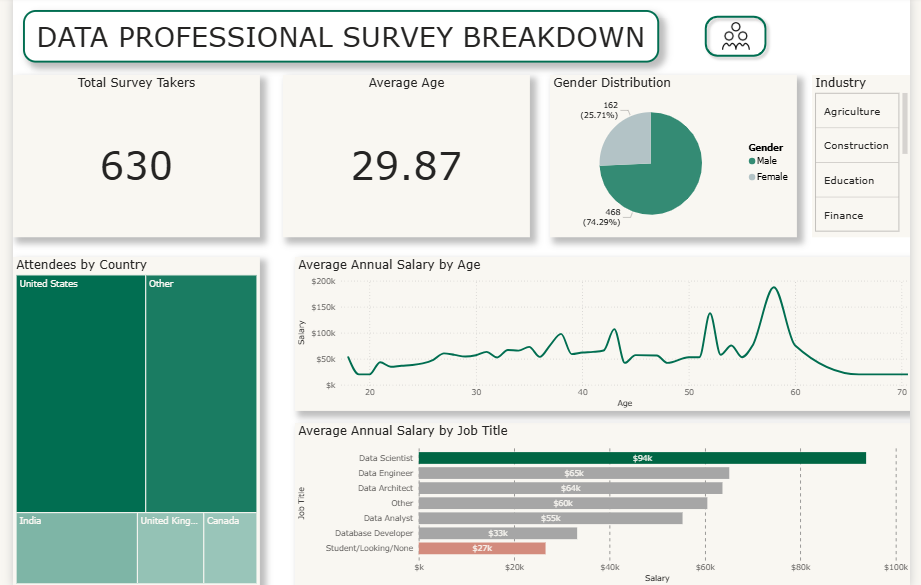

Layout of this report page (visuals, bound fields, positions):
{"tool":"powerbi","page":{"name":"Page 1","canvas":[1400,920],"ordinal":0},"visuals":[{"type":"textbox","box":[15.3,20.4,991.6,81.8],"z":0},{"type":"card","title":"Total Survey Takers","fields":{"Values":["Count(Data Professional Survey.Unique ID)"]},"box":[0,121.9,385,252.8],"z":1000},{"type":"clusteredBarChart","title":"Average Annual Salary by Job Title","fields":{"Category":["Data Professional Survey.Q1 - Which Title Best Fits your Current Role?.1"],"Y":["Avg(Data Professional Survey.Average Salary)"]},"box":[439.2,665,960.8,254.5],"z":2000},{"type":"treemap","title":"Attendees by Country","fields":{"Group":["Data Professional Survey.Q11 - Which Country do you live in?.1"],"Values":["CountNonNull(Data Professional Survey.Q11 - Which Country do you live in?.1)"]},"box":[0,405.1,385.4,514.5],"z":3000},{"type":"lineChart","title":"Average Annual Salary by Age","fields":{"Category":["Data Professional Survey.Q10 - Current Age"],"Y":["Avg(Data Professional Survey.Average Salary)"]},"box":[439.2,405.1,960.8,240.2],"z":4000},{"type":"advancedSlicerVisual","title":"Industry","fields":{"Values":["Data Professional Survey.Q4 - What Industry do you work in?.1"]},"box":[1245.8,121.9,154.2,252.8],"z":5000},{"type":"card","title":"Average Age","fields":{"Values":["Avg(Data Professional Survey.Q10 - Current Age)"]},"box":[421.3,121.9,385,252.8],"z":6000},{"type":"pieChart","title":"Gender Distribution","fields":{"Category":["Data Professional Survey.Q9 - Male/Female?"],"Y":["CountNonNull(Data Professional Survey.Q9 - Male/Female?)"]},"box":[837.1,121.9,385.4,252.8],"z":7000},{"type":"actionButton","box":[1069.9,20.4,114.1,81.8],"z":8000},{"type":"image","box":[1097.2,34.1,59.6,52.8],"z":10000}]}

Visuals, with their boxes on the page's 1400x920 design canvas (x1, y1, x2, y2). These are canvas units, not pixel positions in the 921x585 screenshot, which may show the page scaled, cropped or inside an application window:
textbox: box(15, 20, 1007, 102)
"Total Survey Takers" card: box(0, 122, 385, 375)
"Average Annual Salary by Job Title" clusteredBarChart: box(439, 665, 1400, 920)
"Attendees by Country" treemap: box(0, 405, 385, 920)
"Average Annual Salary by Age" lineChart: box(439, 405, 1400, 645)
"Industry" advancedSlicerVisual: box(1246, 122, 1400, 375)
"Average Age" card: box(421, 122, 806, 375)
"Gender Distribution" pieChart: box(837, 122, 1222, 375)
actionButton: box(1070, 20, 1184, 102)
image: box(1097, 34, 1157, 87)
